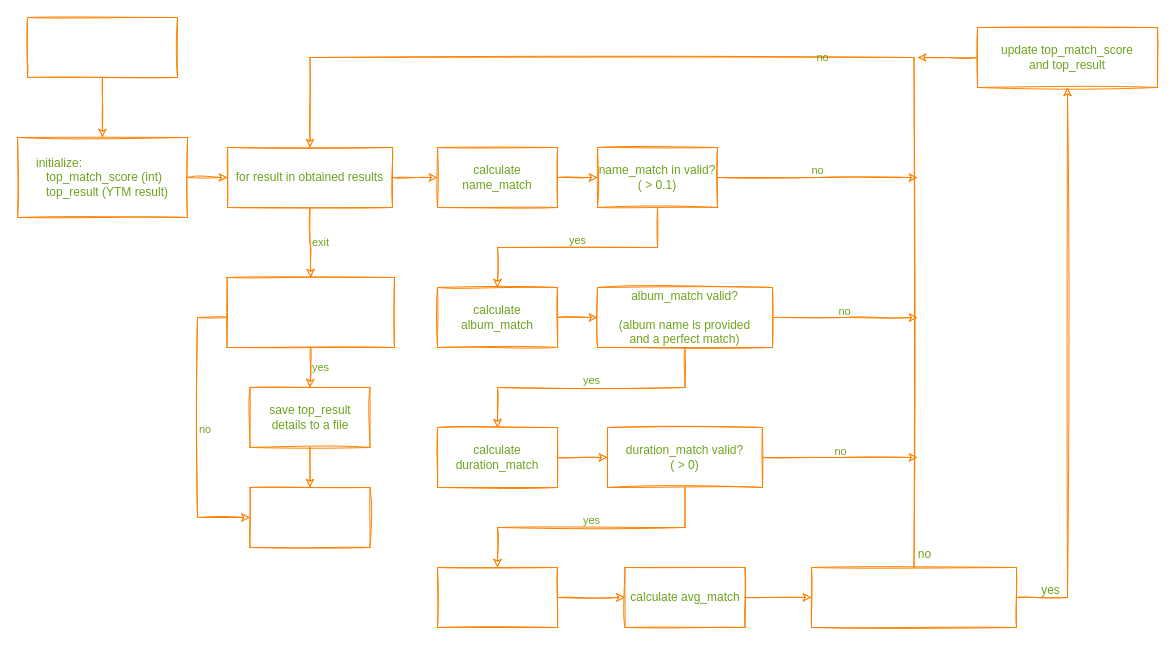
This 1175x645 diagram has some shape labels left out. Each missing label, with the centre of its shape:
"avg_match > top_result_match ?" goes at pixel 913 597.
"calculate artist_match" goes at pixel 497 597.
"Get available YouTube music results" goes at pixel 102 47.
"return top_result" goes at pixel 309 517.
"top_result correctness doubtful? (top_match_score< 0.75)" goes at pixel 310 312.
